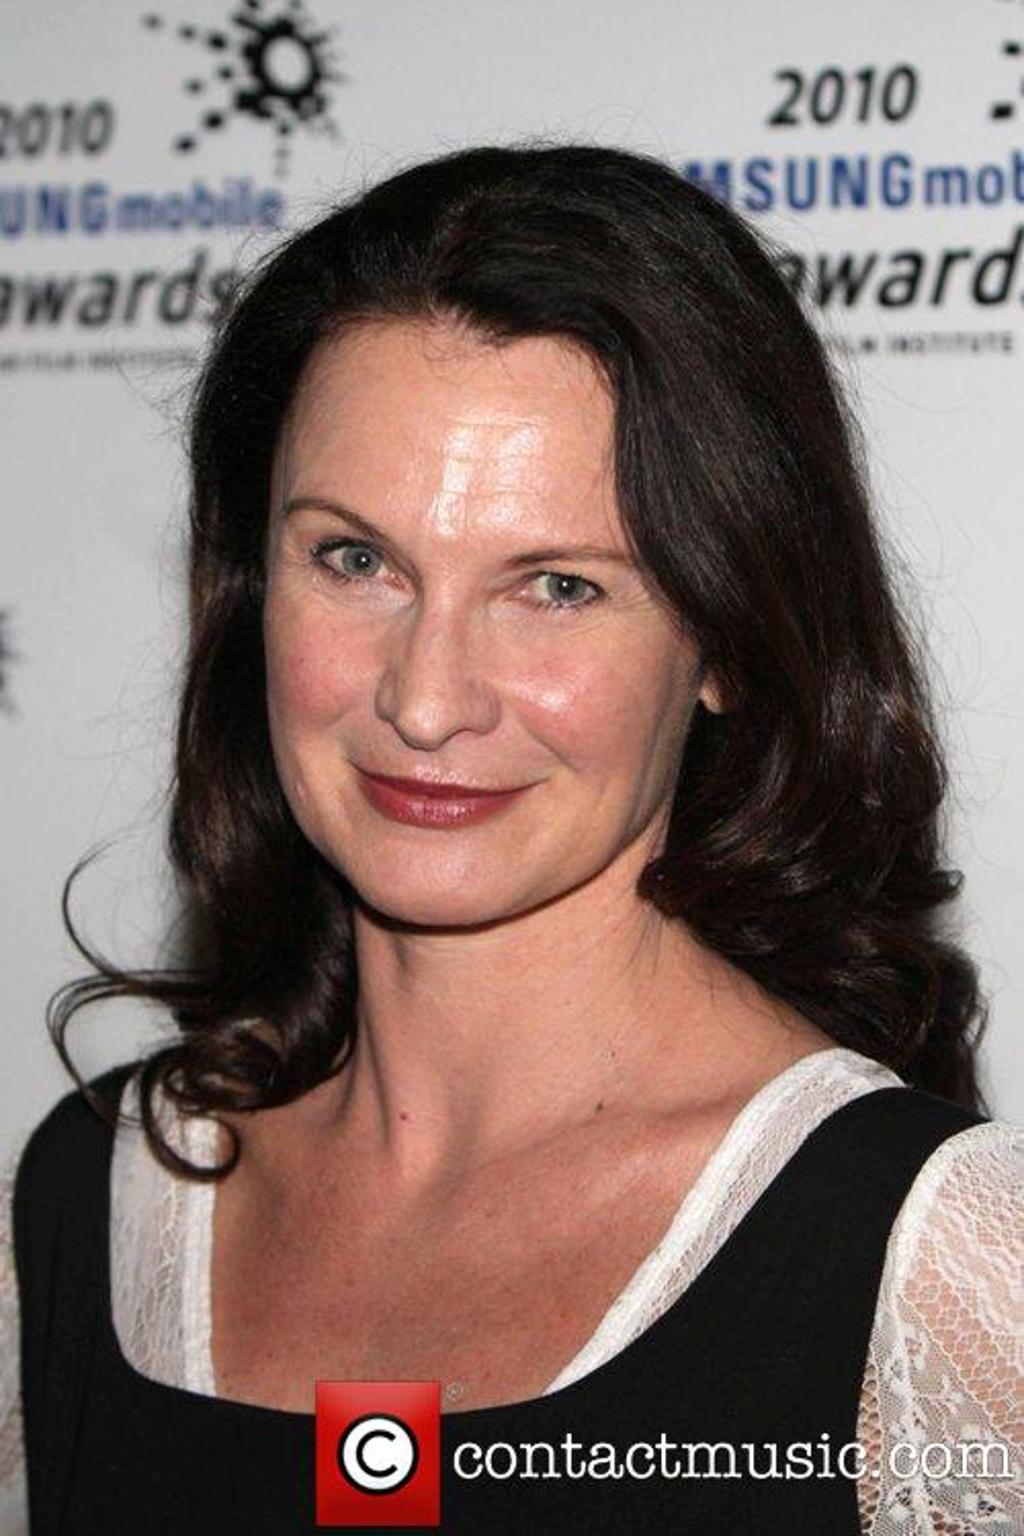face: (267, 318, 699, 925)
